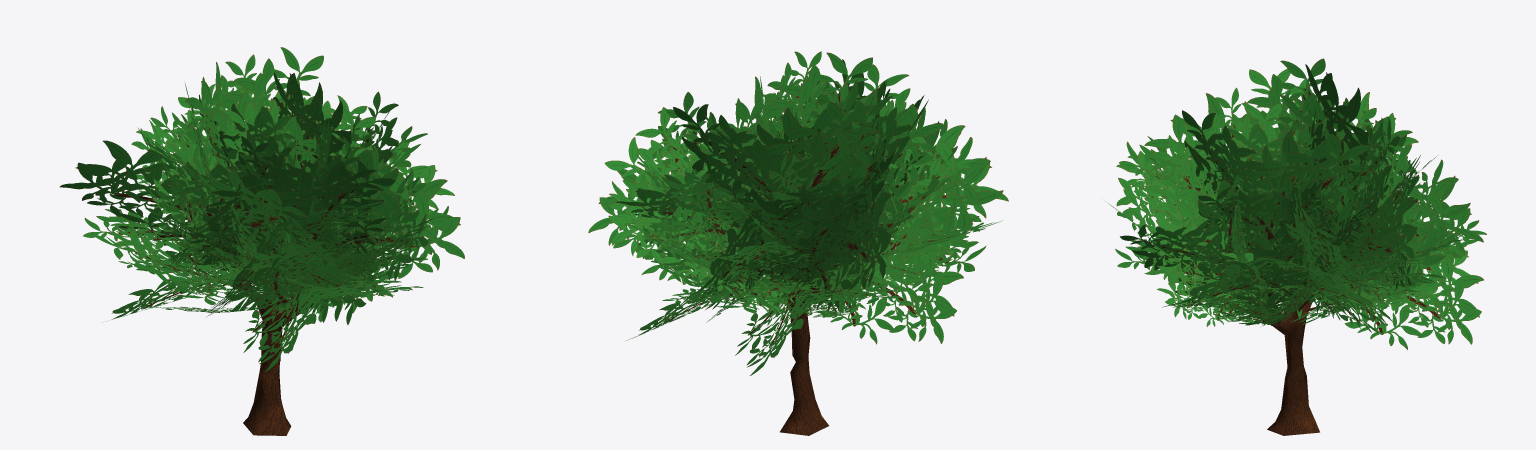
File: tree3.fbx
The picture shows the model from 3 angles, left to right: view 1: azimuth 30°, elevation 25°; view 2: azimuth 150°, elevation 25°; view 3: azimuth 270°, elevation 25°; orthographic projection. The views are drawn at different scales.
Visible parts, largest first — view 1: branches, Base; view 2: branches, Base; view 3: branches, Base.
Boxes of the visible parts, <box> form: branches: <box>60,47,464,372</box>; Base: <box>229,270,320,435</box>; branches: <box>588,51,1008,375</box>; Base: <box>780,279,829,435</box>; branches: <box>1105,58,1486,349</box>; Base: <box>1215,273,1319,435</box>.
Size of the model in its own units: 34.25 by 31.49 by 33.1.
